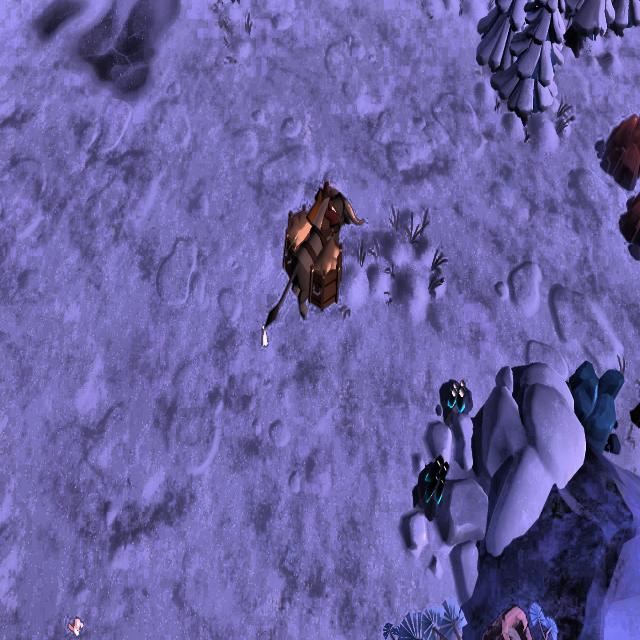ore_t4: (422, 454, 449, 511), (445, 376, 467, 412)
rock_t4: (565, 355, 627, 460)
rock_t5: (593, 112, 640, 190), (617, 187, 640, 260)
